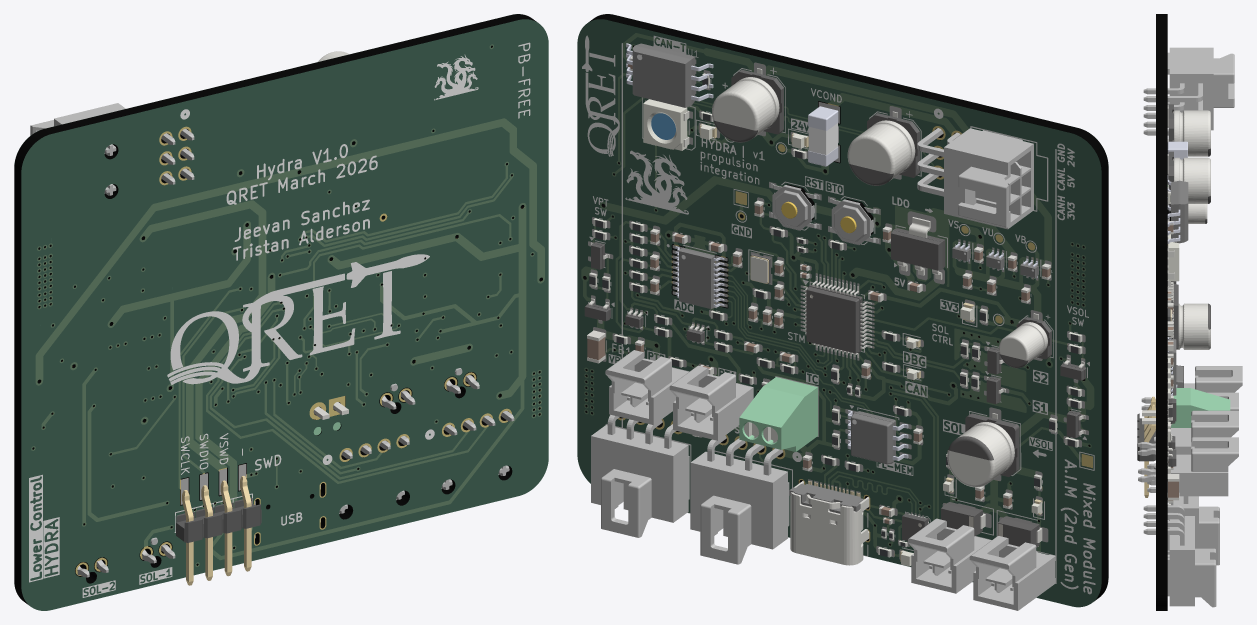
The model's file is lower_board-final-draco.glb.
3 renders of one model, left to right at view 1: azimuth 30°, elevation 25°; view 2: azimuth 150°, elevation 25°; view 3: azimuth 270°, elevation 25°, orthographic. The views are drawn at different scales.
Parts seen in each view (by area): view 1: SHAPE_1517_IndexedFaceSet.001; view 2: SHAPE_1517_IndexedFaceSet.001; view 3: SHAPE_1517_IndexedFaceSet.001.
Part boxes in pixels (x1=…): SHAPE_1517_IndexedFaceSet.001: x1=14, y1=14, x2=548, y2=610; SHAPE_1517_IndexedFaceSet.001: x1=577, y1=14, x2=1108, y2=610; SHAPE_1517_IndexedFaceSet.001: x1=1137, y1=14, x2=1242, y2=610.
Bounding box in the file's own units: 0.0695 × 0.0612 × 0.0143.
Materials: 2 (2 with a texture image).
